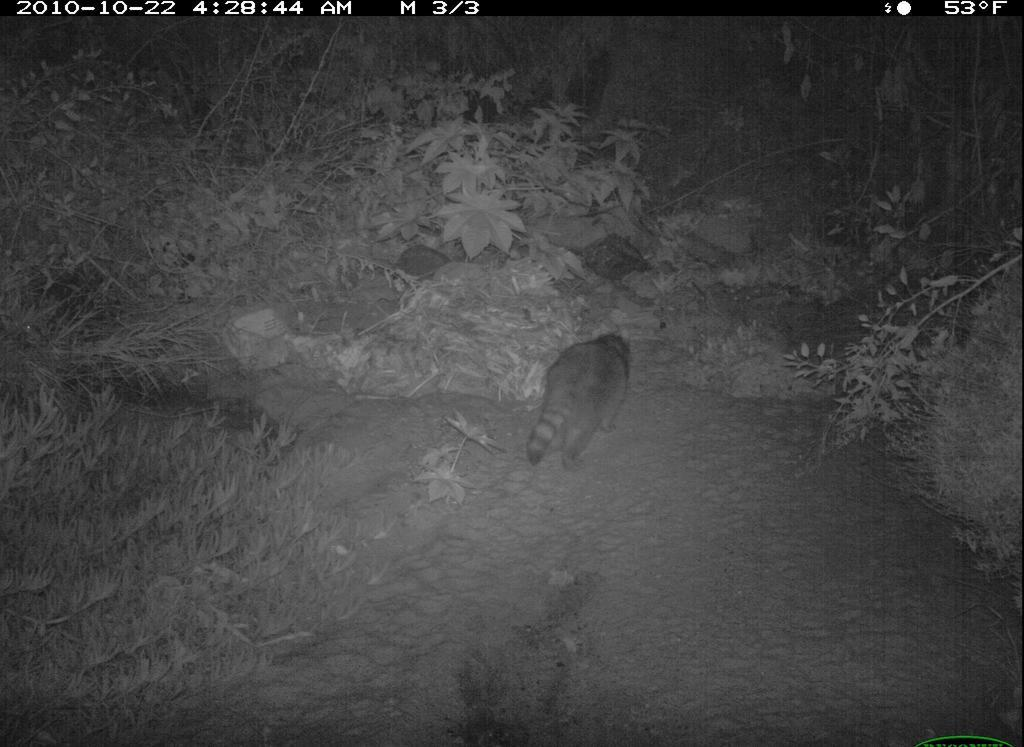raccoon: (519, 328, 639, 481)
